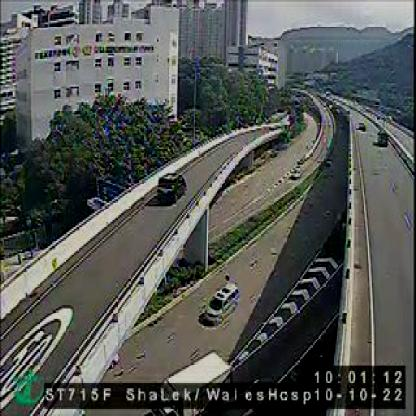Bus: (153, 354, 232, 416)
Car: (202, 281, 238, 325), (156, 168, 186, 203), (289, 166, 299, 178)
